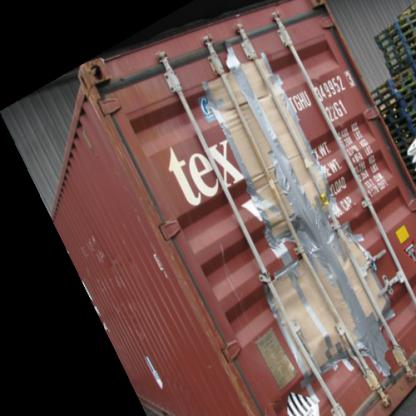Damage: (204, 53, 393, 388)
